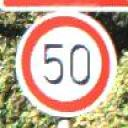speed_limit_50: (12, 12, 117, 117)
